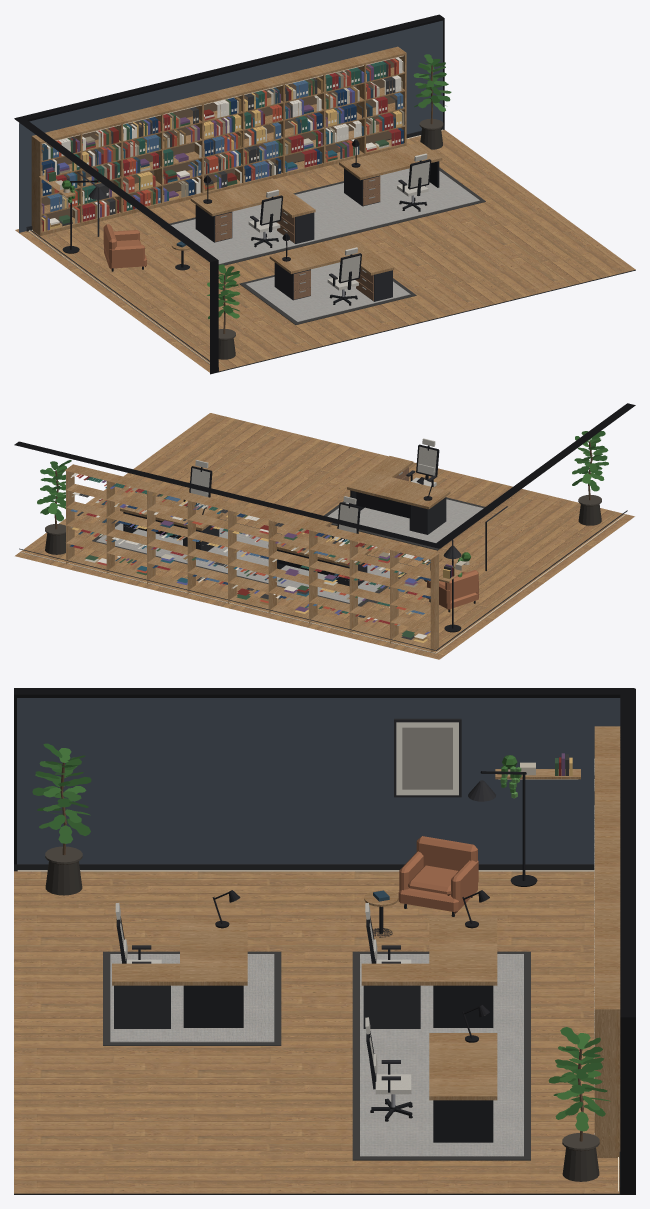
File: research.gltf
3 renders of one model, top to bottom at view 1: azimuth 30°, elevation 25°; view 2: azimuth 150°, elevation 25°; view 3: azimuth 270°, elevation 25°, orthographic. The views are drawn at different scales.
Parts seen in each view (by area): view 1: room_research, leds_research; view 2: room_research, leds_research; view 3: room_research, leds_research.
Boxes of the visible parts, x1=… form: room_research: x1=14, y1=14, x2=635, y2=374; leds_research: x1=28, y1=55, x2=442, y2=363; room_research: x1=14, y1=403, x2=635, y2=659; leds_research: x1=21, y1=514, x2=625, y2=653; room_research: x1=14, y1=688, x2=635, y2=1194; leds_research: x1=17, y1=779, x2=618, y2=1191.
Bounding box in the file's own units: 10.92 × 2.75 × 8.72.
12 materials, 5 textured.
